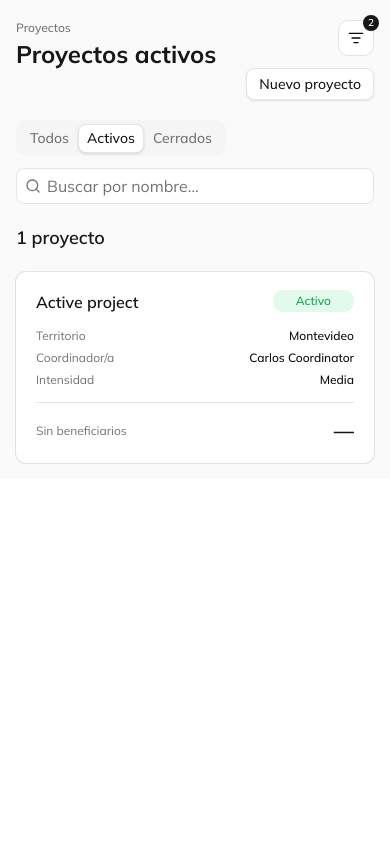
Scenario: shows the selected department and topic in the filter menu
The image size is (390, 844).
Step 1. Click the button named "Filtros de proyectos" → [356, 38], box [338,20,374,56]
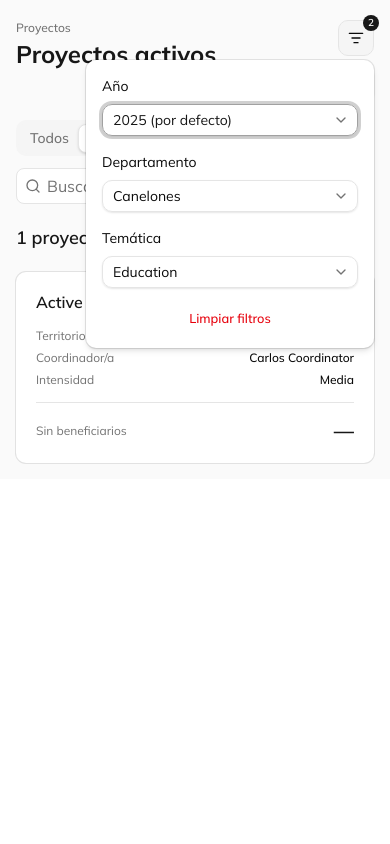
Expected: the dropdown named "Filtrar por departamento" shows "Canelones", [102,180,358,212]
